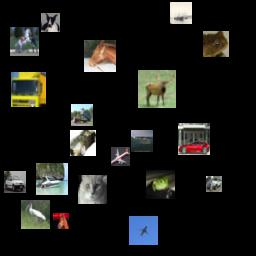airplane: (129, 216, 158, 245), (111, 147, 130, 166)
automobile: (178, 123, 210, 155), (70, 130, 96, 156), (4, 171, 26, 193), (206, 176, 222, 192)
bird: (21, 200, 50, 229)
cat: (78, 175, 107, 204)
deer: (138, 70, 176, 108)
dog: (41, 13, 60, 32)
frog: (146, 170, 175, 199), (203, 31, 229, 57)
ship: (36, 163, 68, 195), (170, 2, 192, 24), (131, 130, 153, 152)
truck: (11, 72, 46, 107), (71, 104, 93, 126)
